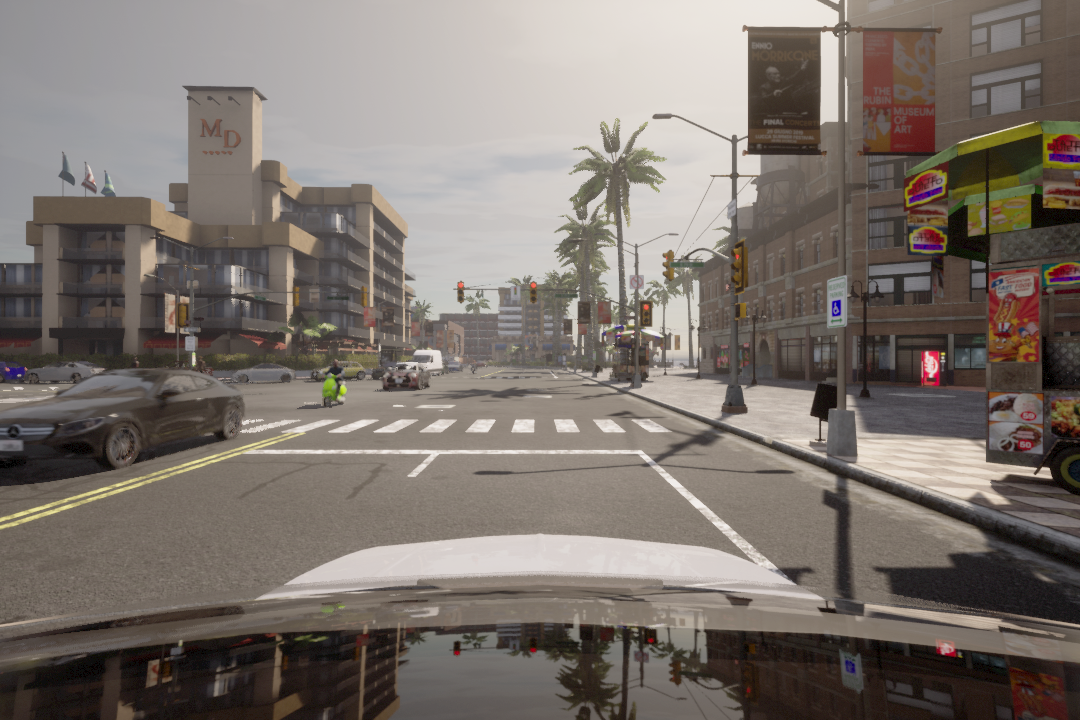TrafficLight: (729, 241, 752, 293), (660, 247, 677, 283), (528, 282, 541, 305), (641, 301, 652, 327), (457, 281, 468, 305)
TrafficSign: (630, 275, 643, 288)
walkside: (214, 411, 703, 439)
